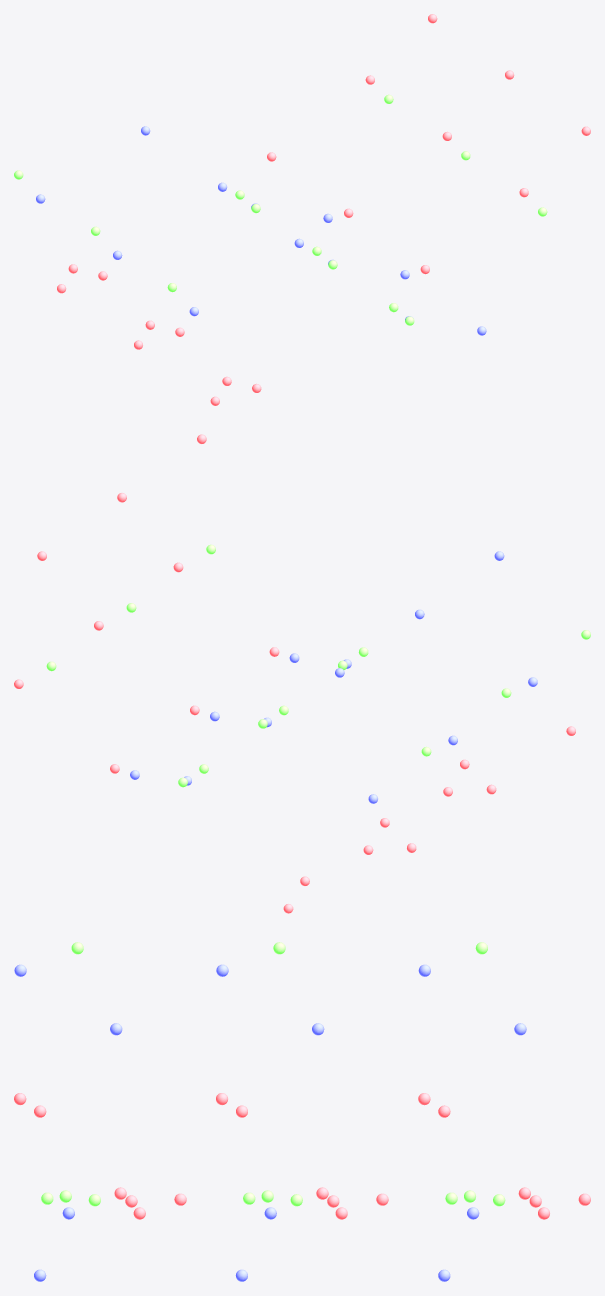
File: SponzaOrbs.glb
3 views of the same model, one above another, from view 1: azimuth 30°, elevation 25°; view 2: azimuth 150°, elevation 25°; view 3: azimuth 270°, elevation 25° (orthographic). The views are drawn at different scales.
Bounding box in the file's own units: 9.87 × 5.43 × 9.37.
